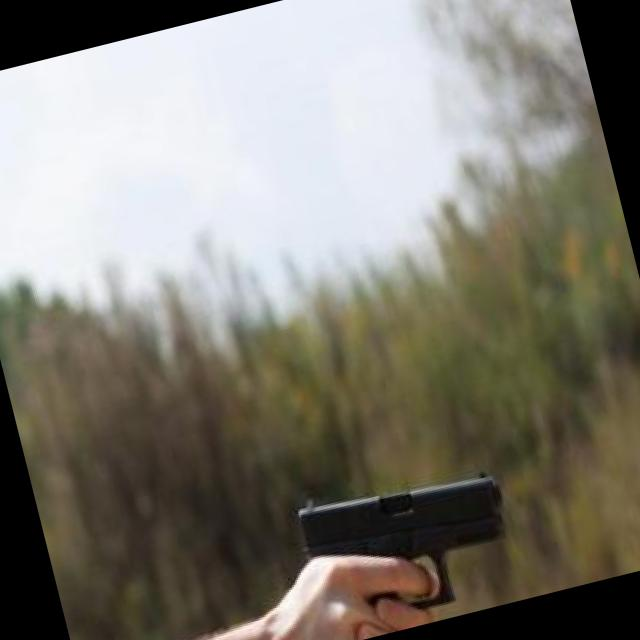Guns: (256, 415, 545, 640)
